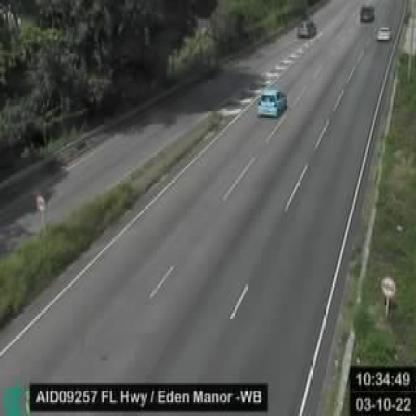Car: (257, 90, 285, 116), (295, 21, 315, 36), (360, 2, 374, 22), (377, 26, 391, 40)
